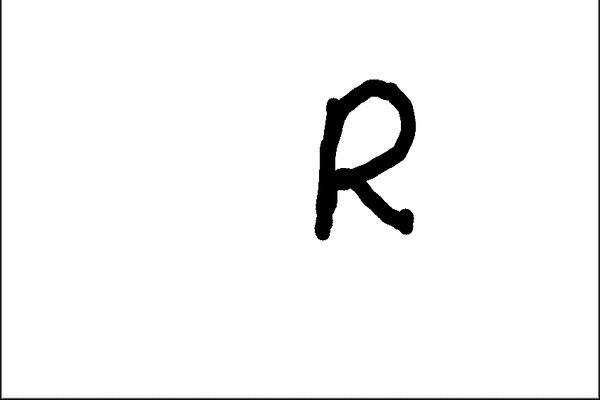R: (310, 70, 424, 255)
